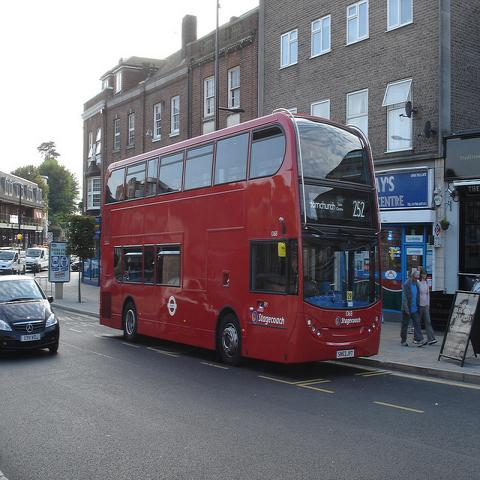bus: (98, 108, 389, 368)
car: (1, 275, 60, 359), (26, 246, 49, 271), (0, 251, 20, 276), (71, 256, 82, 272)
